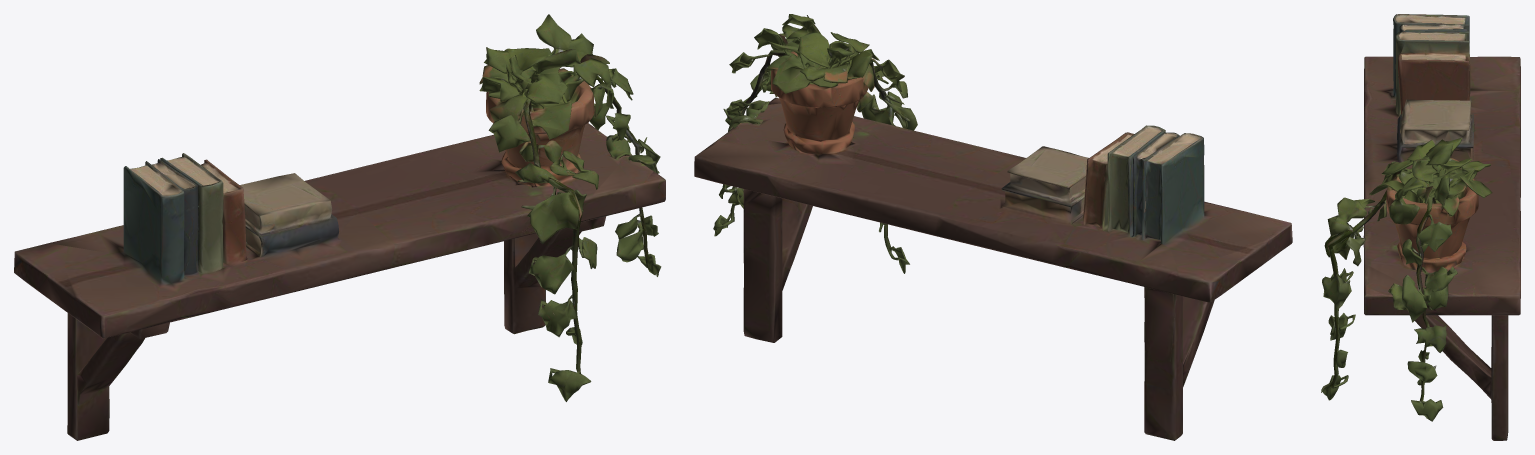
File: shelf.glb
The picture shows the model from 3 angles, left to right: view 1: azimuth 30°, elevation 25°; view 2: azimuth 150°, elevation 25°; view 3: azimuth 270°, elevation 25°; orthographic projection. The views are drawn at different scales.
Size of the model in its own units: 1.9 by 1.03 by 0.6385.
Materials: 1 (1 with a texture image).
